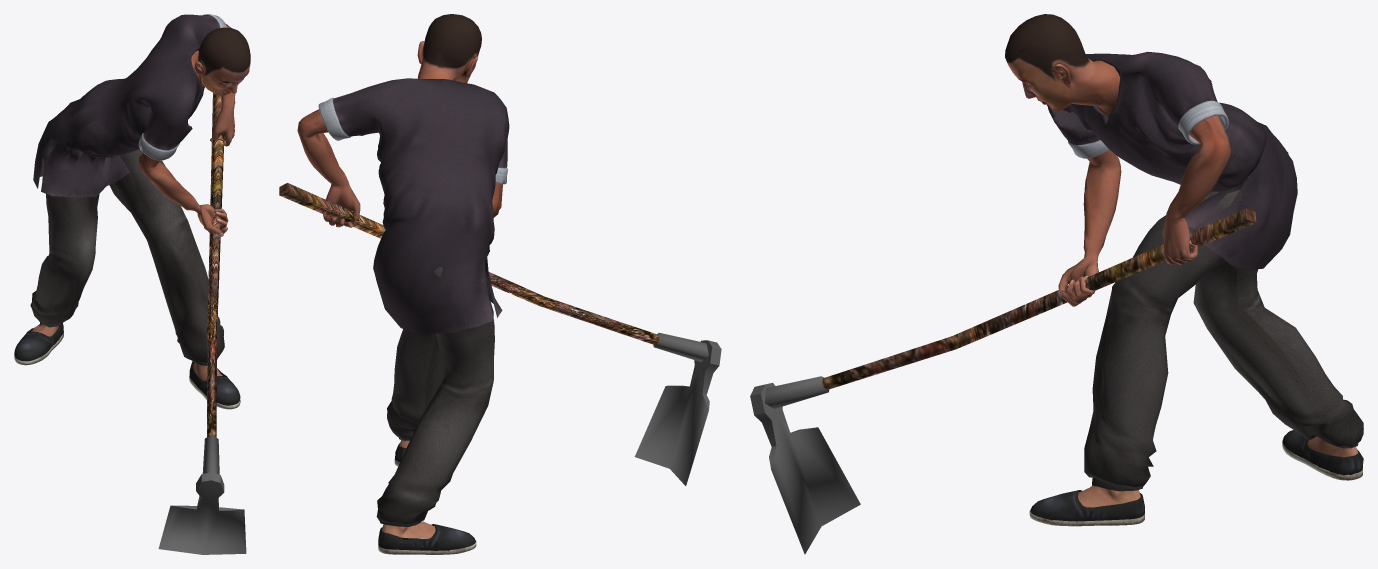
The picture shows the model from 3 angles, left to right: view 1: azimuth 30°, elevation 25°; view 2: azimuth 150°, elevation 25°; view 3: azimuth 270°, elevation 25°; orthographic projection. The views are drawn at different scales.
Visible parts, largest first — view 1: 古代人063ok; view 2: 古代人063ok; view 3: 古代人063ok.
Boxes of the visible parts, left/top/right/bottom form: 古代人063ok: left=14, top=14, right=250, bottom=554; 古代人063ok: left=279, top=14, right=721, bottom=554; 古代人063ok: left=750, top=14, right=1363, bottom=554.
Bounding box in the file's own units: 83.56 × 161 × 154.
